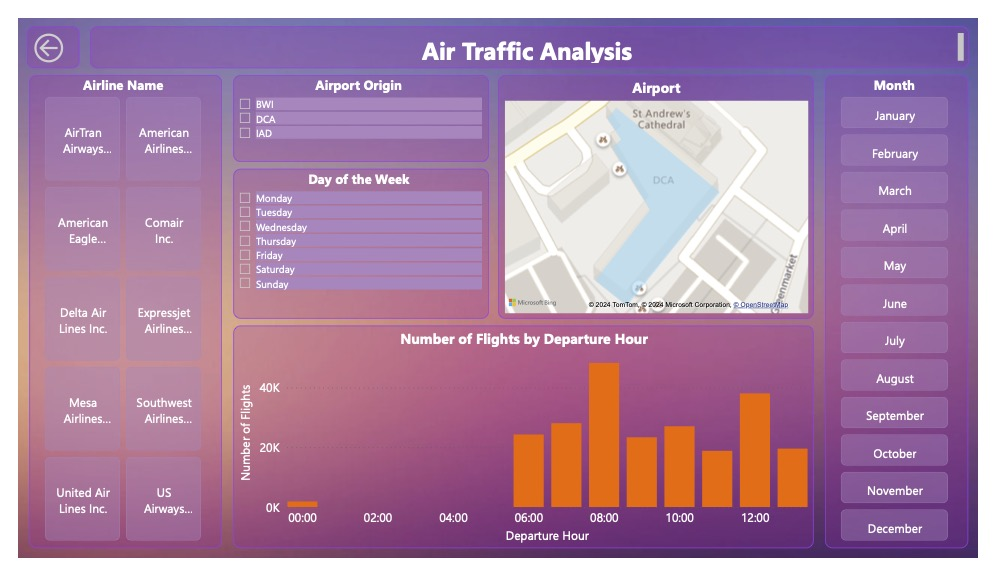

This screenshot's page, from the dashboard's own definition file:
{"tool":"powerbi","page":{"name":"Traffic Analysis","canvas":[1280,720],"ordinal":1},"visuals":[{"type":"slicer","title":"Airport Origin","fields":{"Values":["sheet1.Origin Airport"]},"box":[286.7,76.1,341.4,115.4],"z":0},{"type":"slicer","title":"Day of the Week","fields":{"Values":["sheet1.WeekDay Name"]},"box":[286.7,201,341.4,199.9],"z":1000},{"type":"clusteredColumnChart","fields":{"Y":["Sum(sheet1.Number of Flights)"],"Category":["sheet1.Departure Hour"]},"box":[286.7,410.3,774.7,296.2],"z":2000},{"type":"textbox","box":[95.5,10.7,1172.5,56.1],"z":3000},{"type":"actionButton","box":[11.9,10.7,70.4,56.1],"z":4000},{"type":"filledMap","title":"Airport ","fields":{"Category":["sheet1.Origin Airport"]},"box":[640,76,421.4,324.8],"z":5000},{"type":"advancedSlicerVisual","title":"Airline Name","fields":{"Values":["sheet1.Airline Name"]},"box":[15.5,76.1,257,630.5],"z":6000},{"type":"advancedSlicerVisual","title":"Month","fields":{"Values":["sheet1.Month Name"]},"box":[1075.6,76,191.7,630.5],"z":7000}]}

Visuals, with their boxes in screenshot pixels (x1, y1, x2, y2), scaled from the page's 1280x720 canvas onto the 996x576 screenshot:
"Airport Origin" slicer: (223, 61, 489, 153)
"Day of the Week" slicer: (223, 161, 489, 321)
clusteredColumnChart - Sum(sheet1.Number of Flights) x sheet1.Departure Hour: (223, 328, 826, 565)
textbox: (74, 9, 987, 53)
actionButton: (9, 9, 64, 53)
"Airport " filledMap: (498, 61, 826, 321)
"Airline Name" advancedSlicerVisual: (12, 61, 212, 565)
"Month" advancedSlicerVisual: (837, 61, 986, 565)
